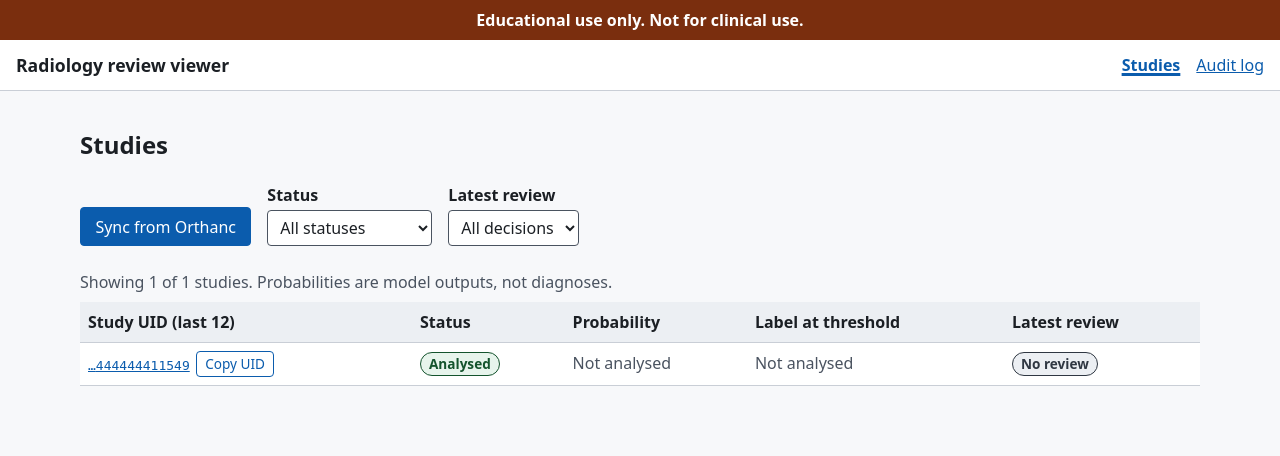
Scenario: educational-use banner › stays in place when navigating between pages
This screenshot has width=1280, height=456.
Click the link "Audit log" at (1230, 65), box [1196,53,1264,77]
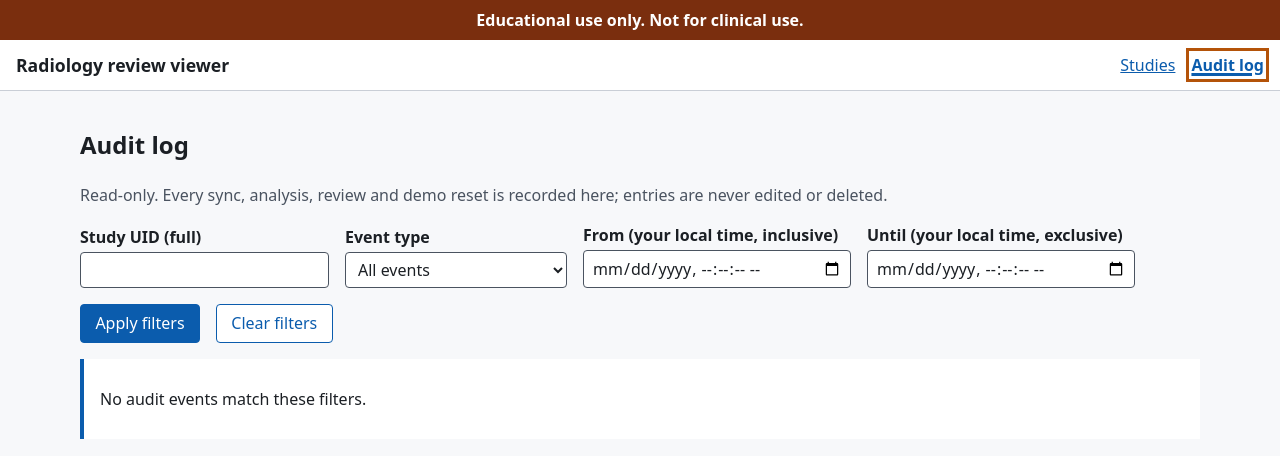
Result: the heading "Audit log" is shown at [80,128,189,161]
